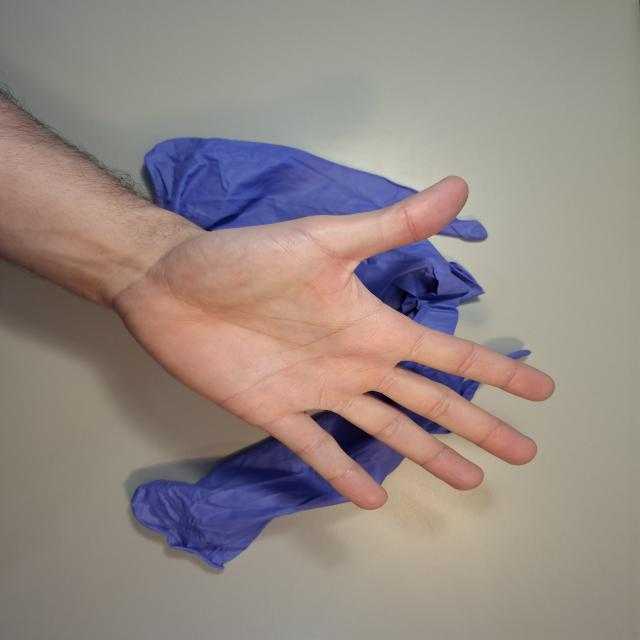glove_off: (98, 171, 560, 512)
